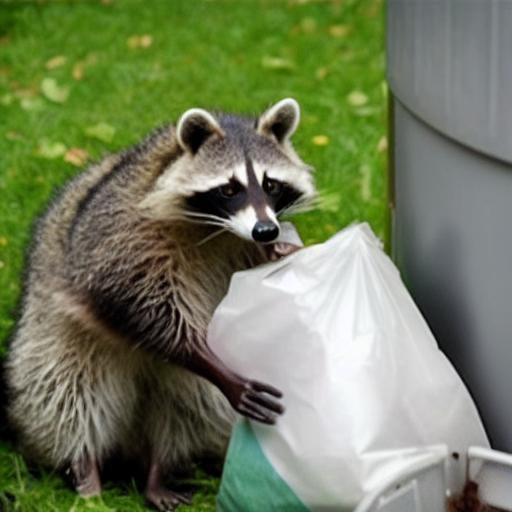raccoon: (0, 91, 322, 473)
